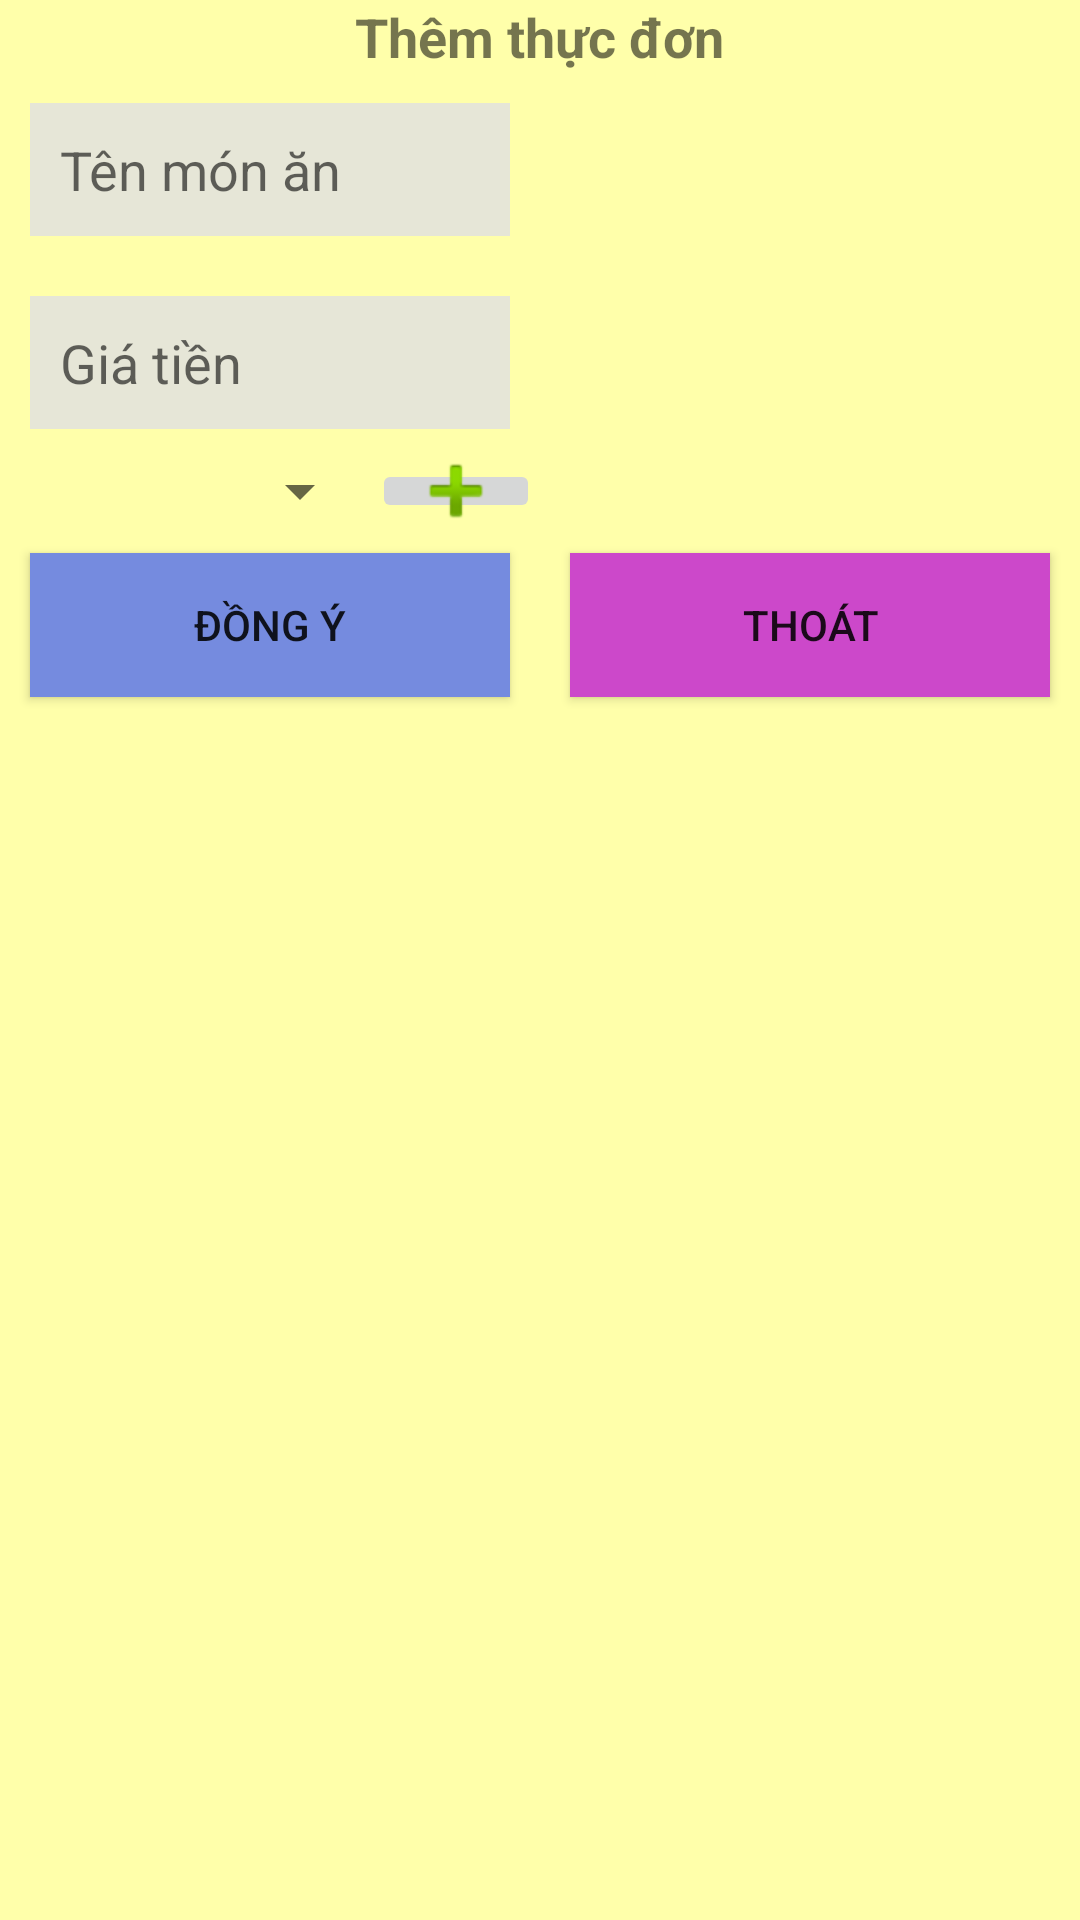

Icon bounding boxes for this 1080px x 1920px phone screenshot, format (x1,y1,x2,y2):
add: (384,464,528,518)
